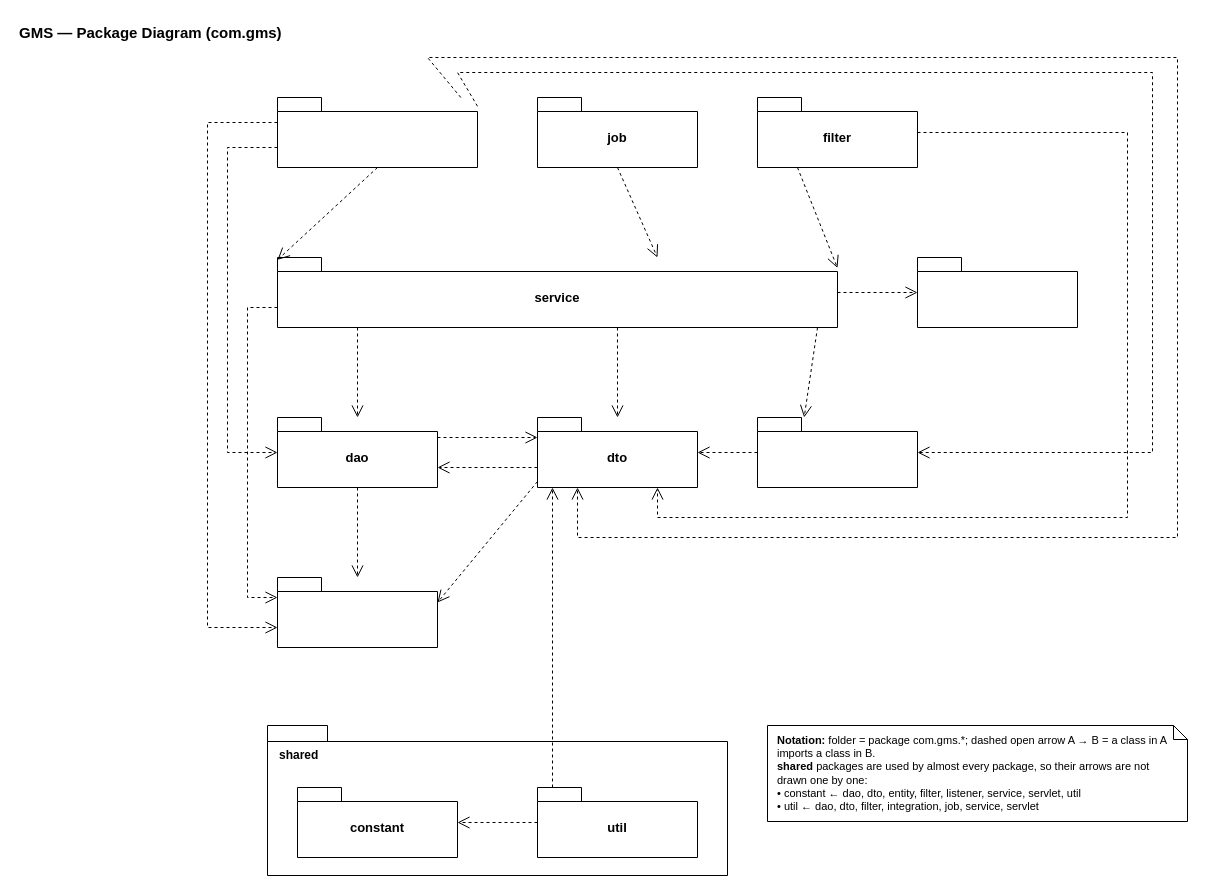
The diagram is 1207 pixels wide and 893 high, and some of its shapes have lost their labels. The shapes that lost their labels are listed below. From the top down, each one's centre as x and y in pixels, then its label:
At point 377,132: "servlet".
At point 997,292: "listener".
At point 837,452: "integration".
At point 357,612: "entity".
